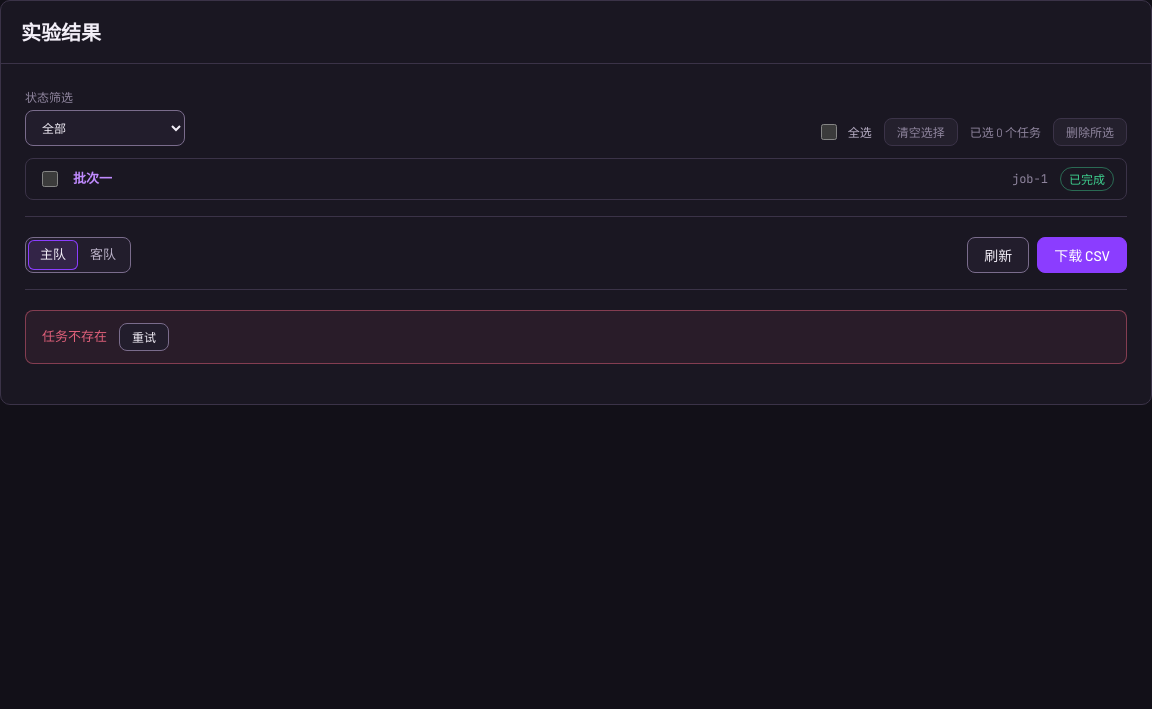
Test: ResultsPage › 摘要加载失败时展示错误并可重试
Expected: the message shows "任务不存在", [42,328,107,344]
Click the button "重试": (144, 337) [119,323,169,351]
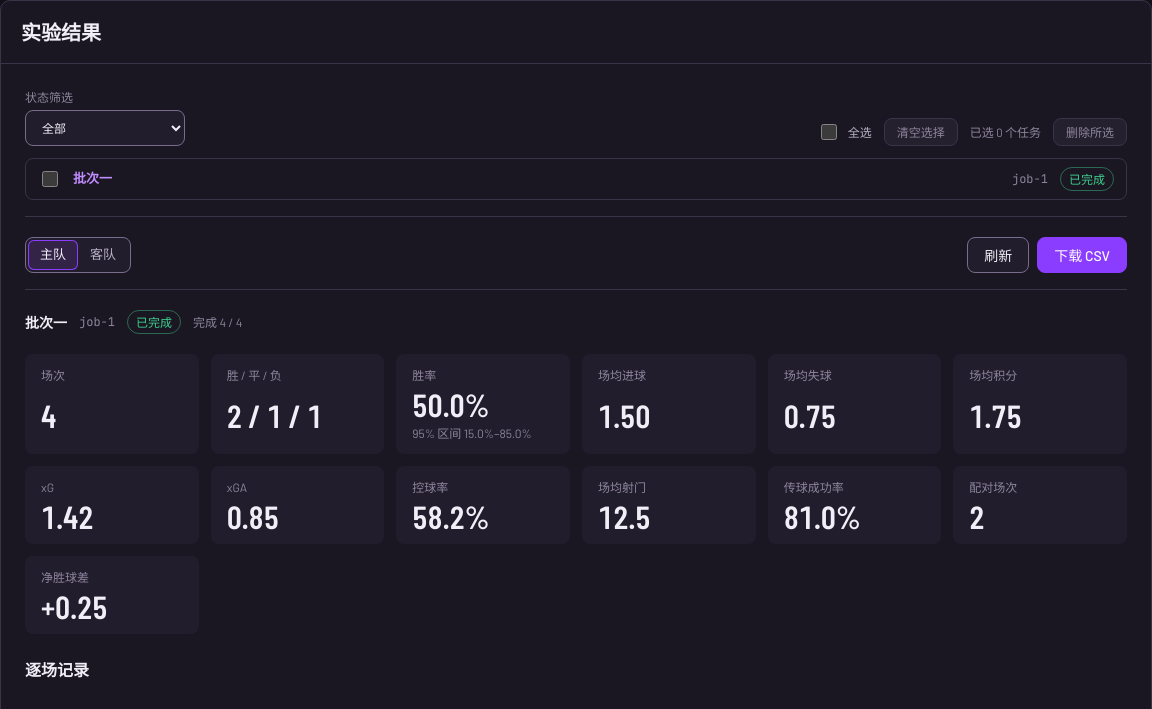
Expected: the text "场次" is shown, [41,368,65,382]
